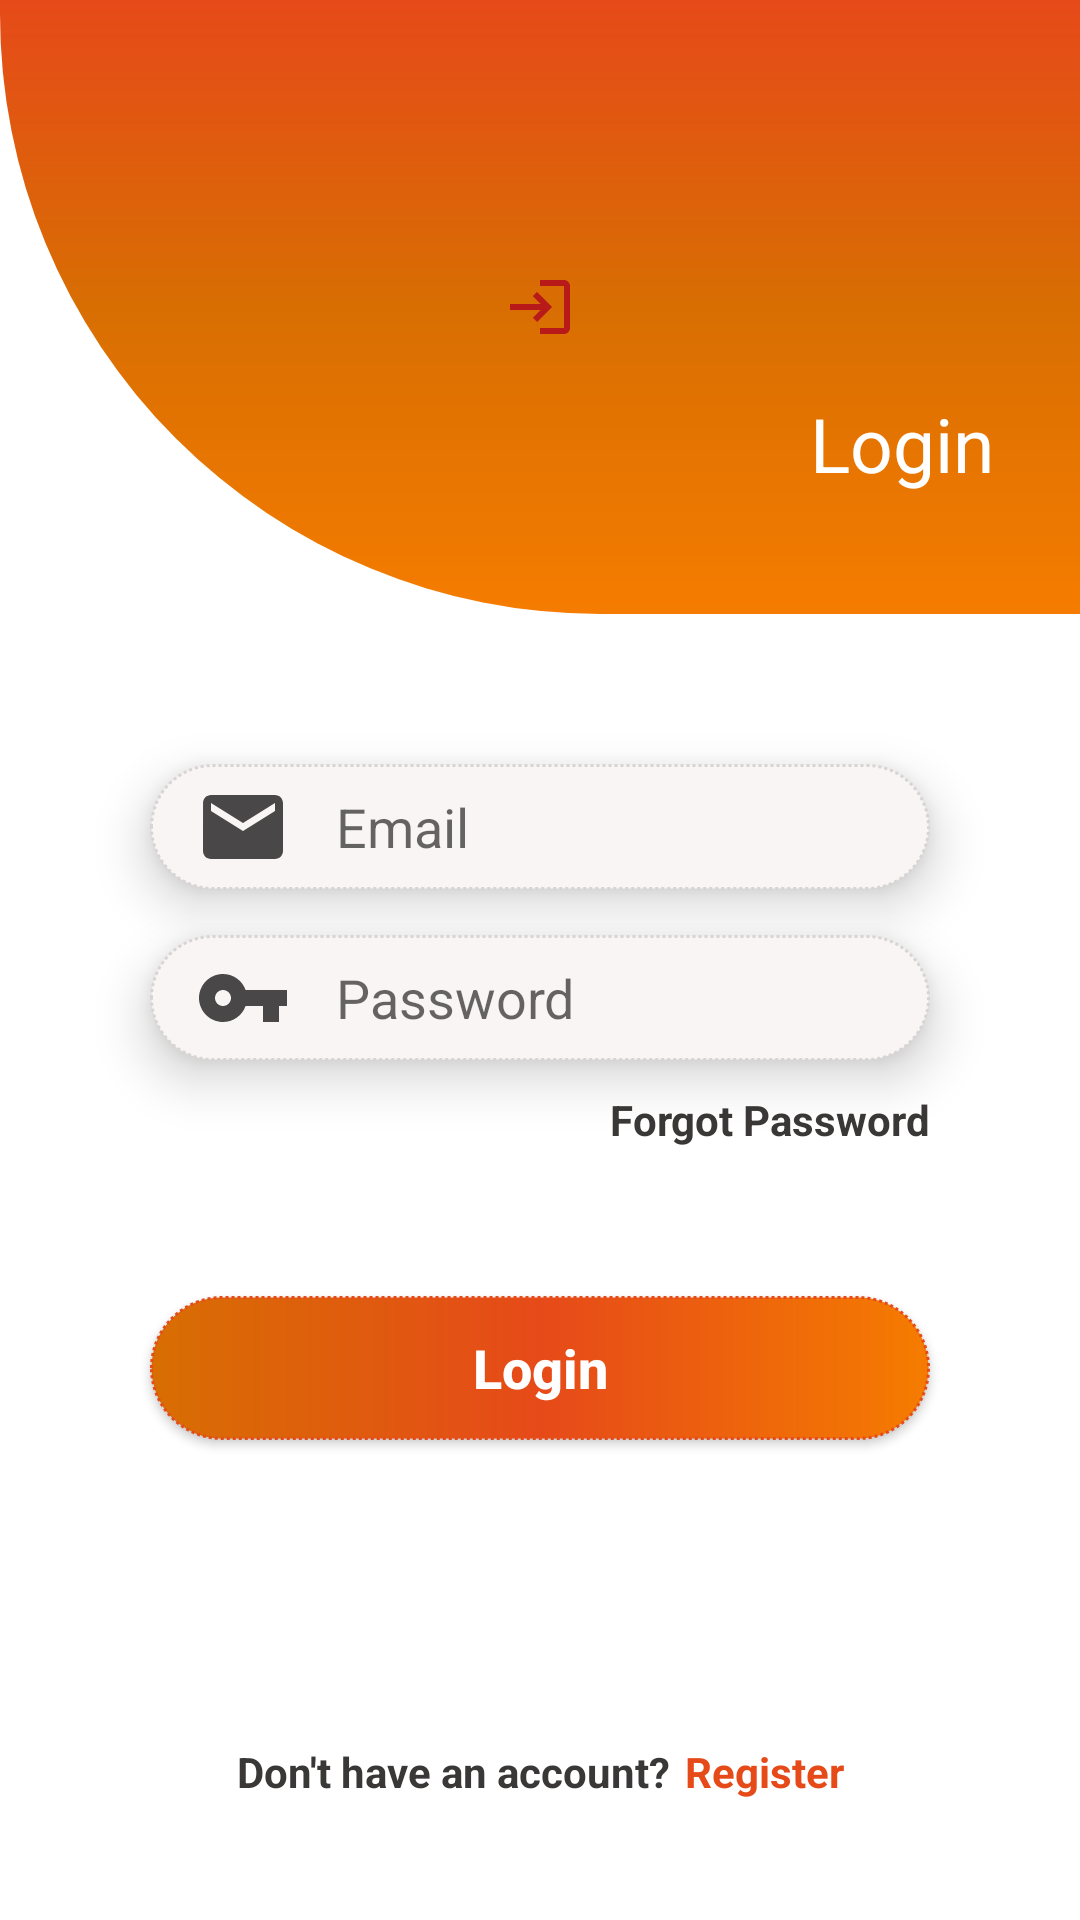

Named icons in this screenshot (1080 × 1920) and their bounding boxes, {"x1": x1, "y1": y1, "x2": x2, "y2": y2}:
login: {"x1": 510, "y1": 280, "x2": 570, "y2": 334}
